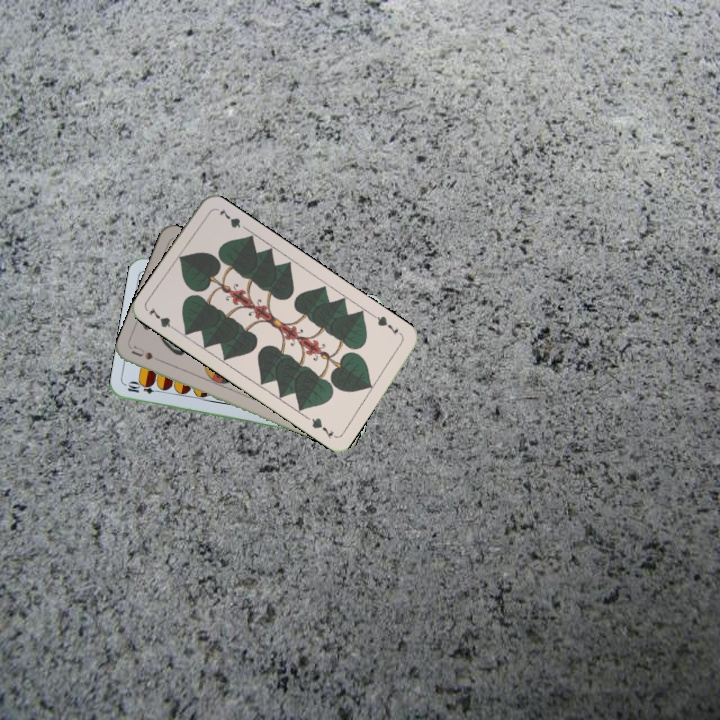E10: (124, 380, 164, 397)
G7: (144, 303, 180, 334), (369, 311, 405, 339)
SU: (128, 342, 168, 366)
